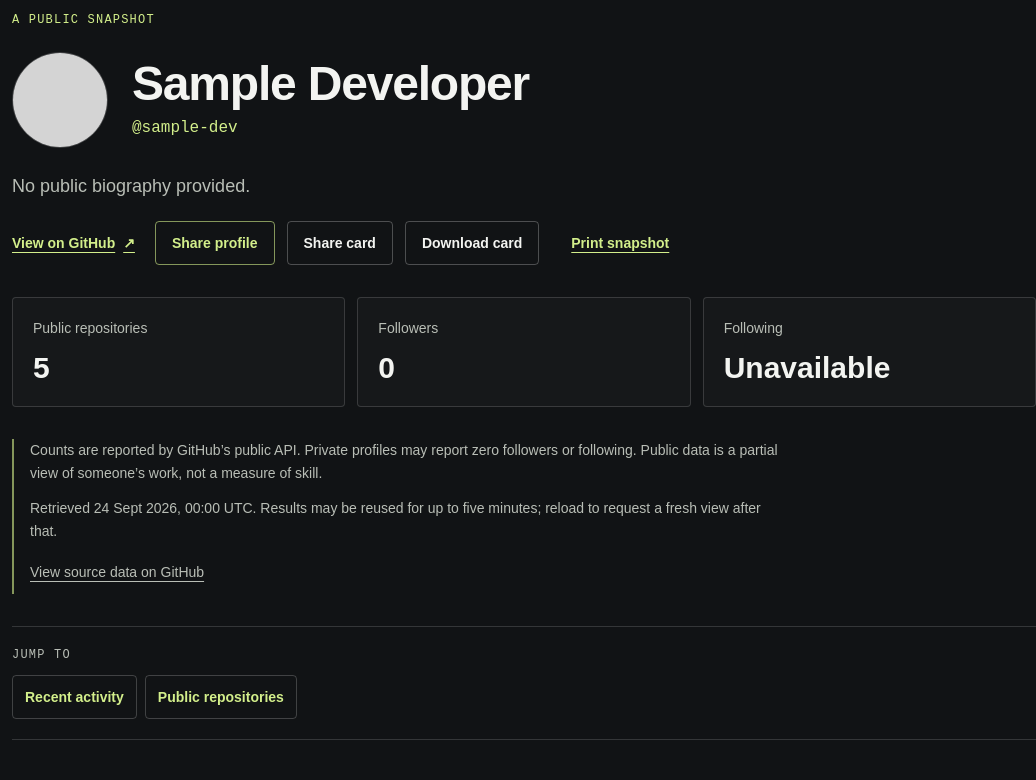
Test: downloads the generated PNG when Share card cannot share files
Click the button "Share card": (340, 243) [286, 221, 393, 265]
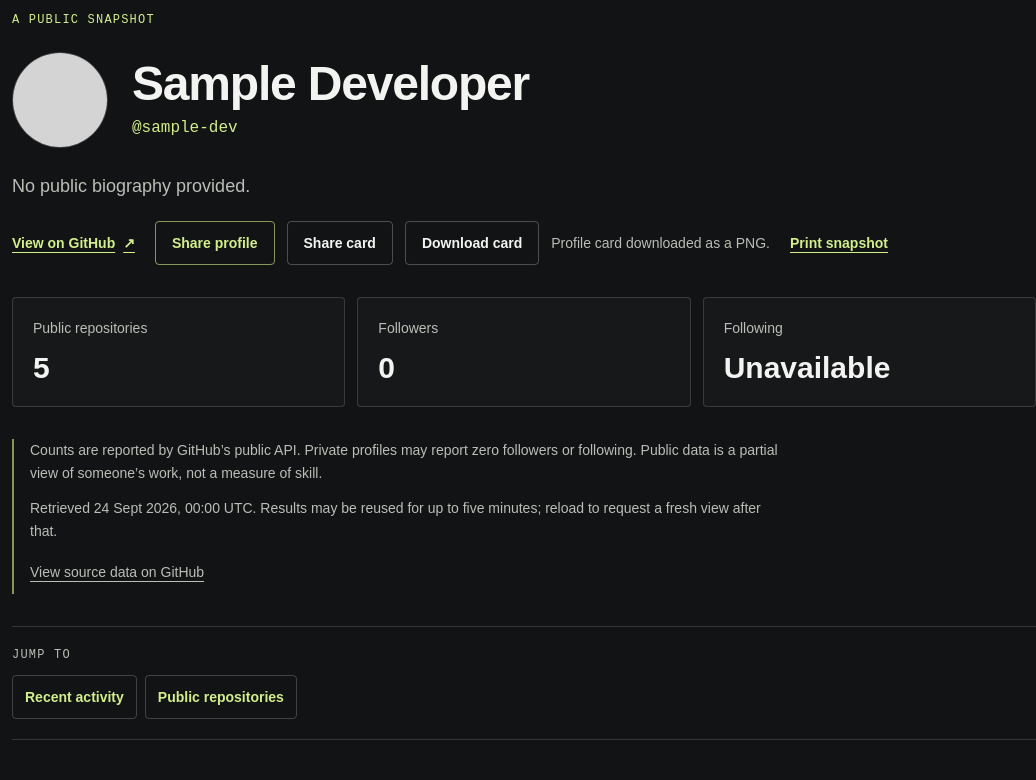
Now the message reads "Profile card downloaded as a PNG.", box [551, 235, 770, 251]
